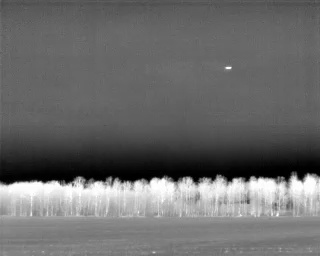DRONE: (222, 63, 235, 74)
